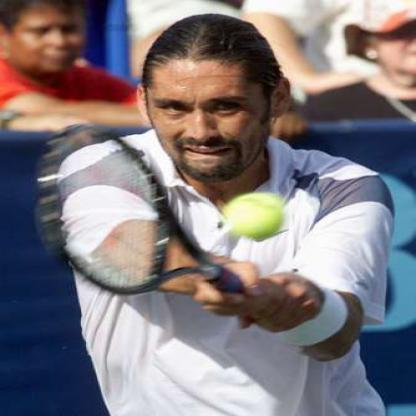face: (149, 23, 274, 184), (9, 1, 86, 75)
